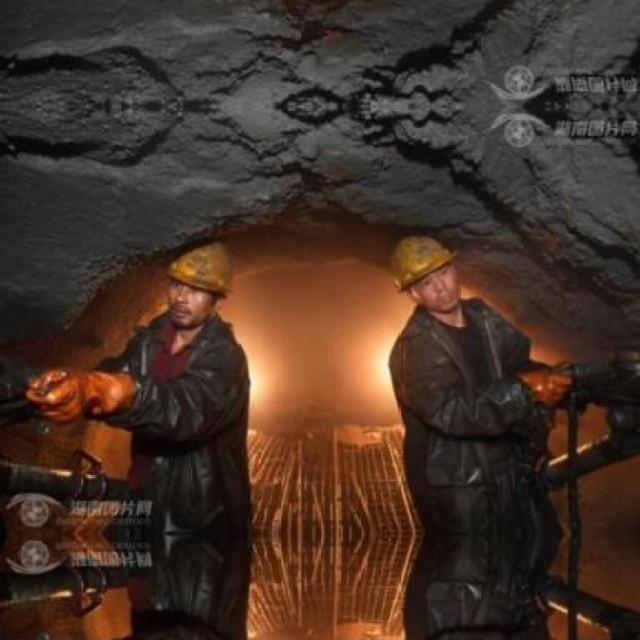helmet: (384, 234, 464, 317), (162, 251, 232, 321)
